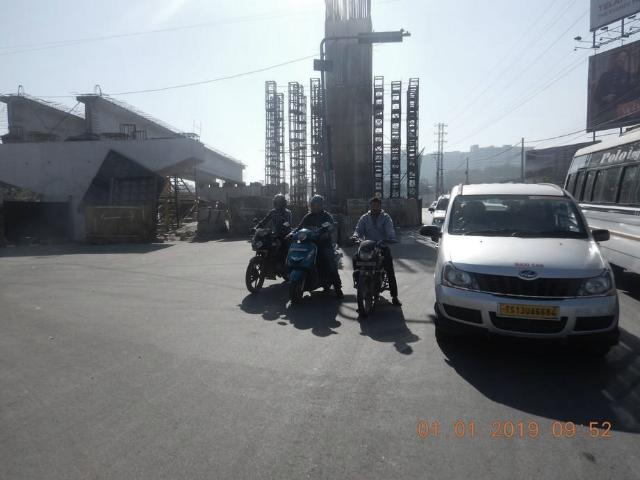helm: (311, 196, 325, 212), (274, 195, 287, 210)
motor: (285, 230, 344, 305), (351, 239, 400, 318), (248, 230, 281, 294)
non-helm: (370, 198, 382, 214)
